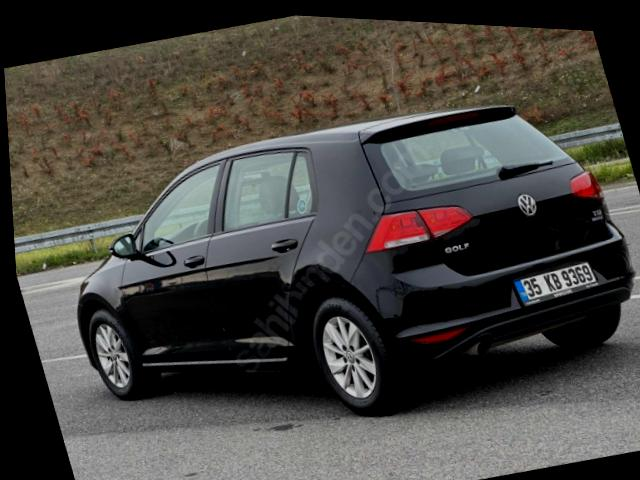plaka: (514, 261, 596, 305)
